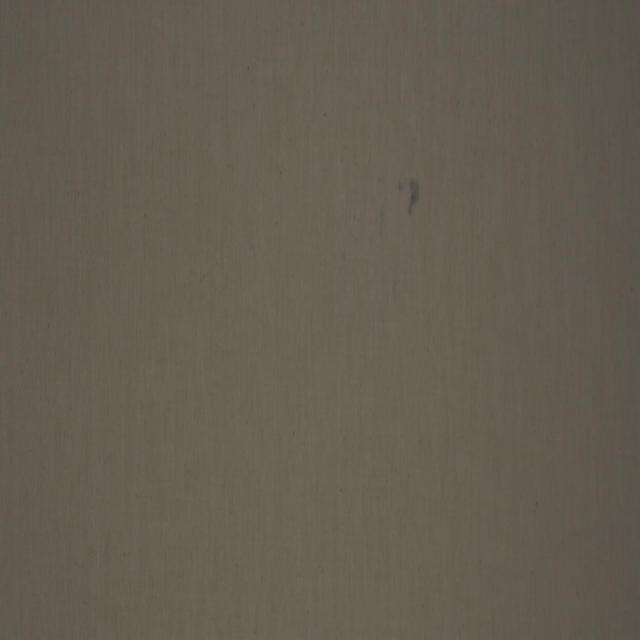dirty: (396, 175, 422, 216)
